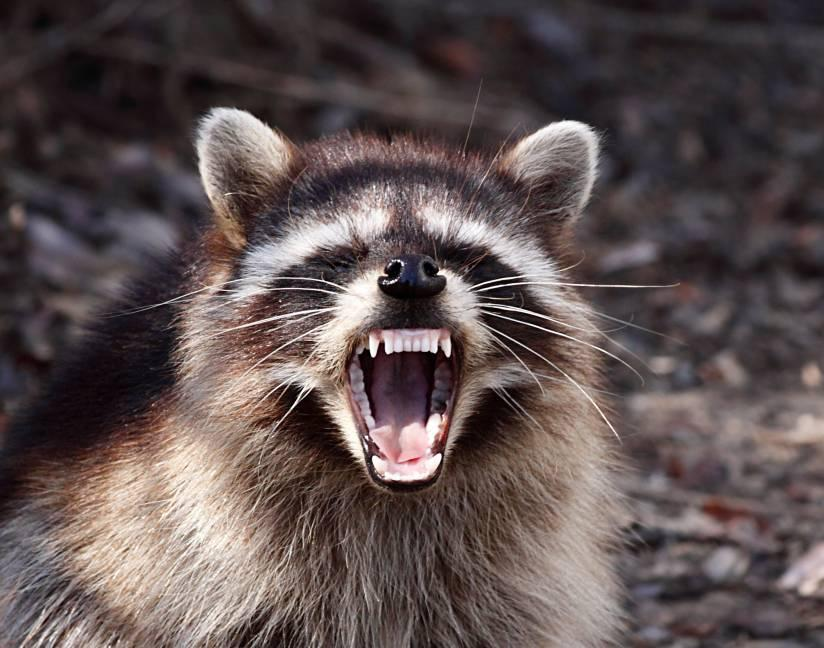raccoon: (1, 105, 625, 648)
